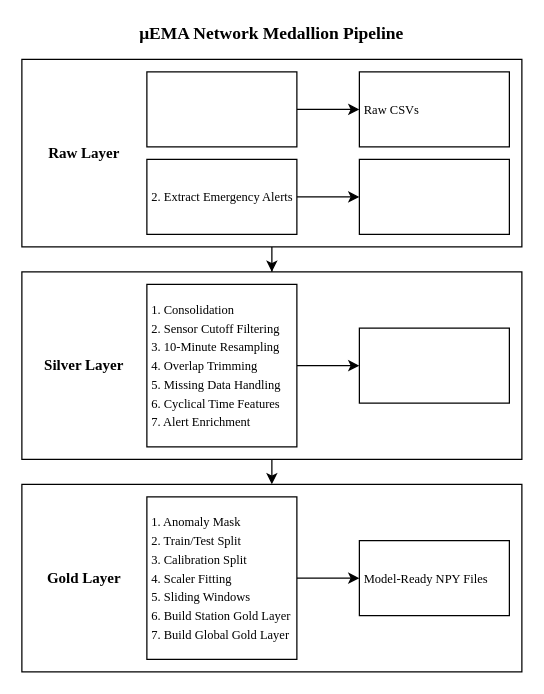
The diagram is 544 pixels wide and 694 high, and some of its shapes have lost their labels. The centre of each missing label's shape, as x and y in pixels:
"1. Download Station Data" belongs at (221,109).
"Alerts CSV" belongs at (433,196).
"Silver Data (Cleaned CSVs)" belongs at (433,365).
